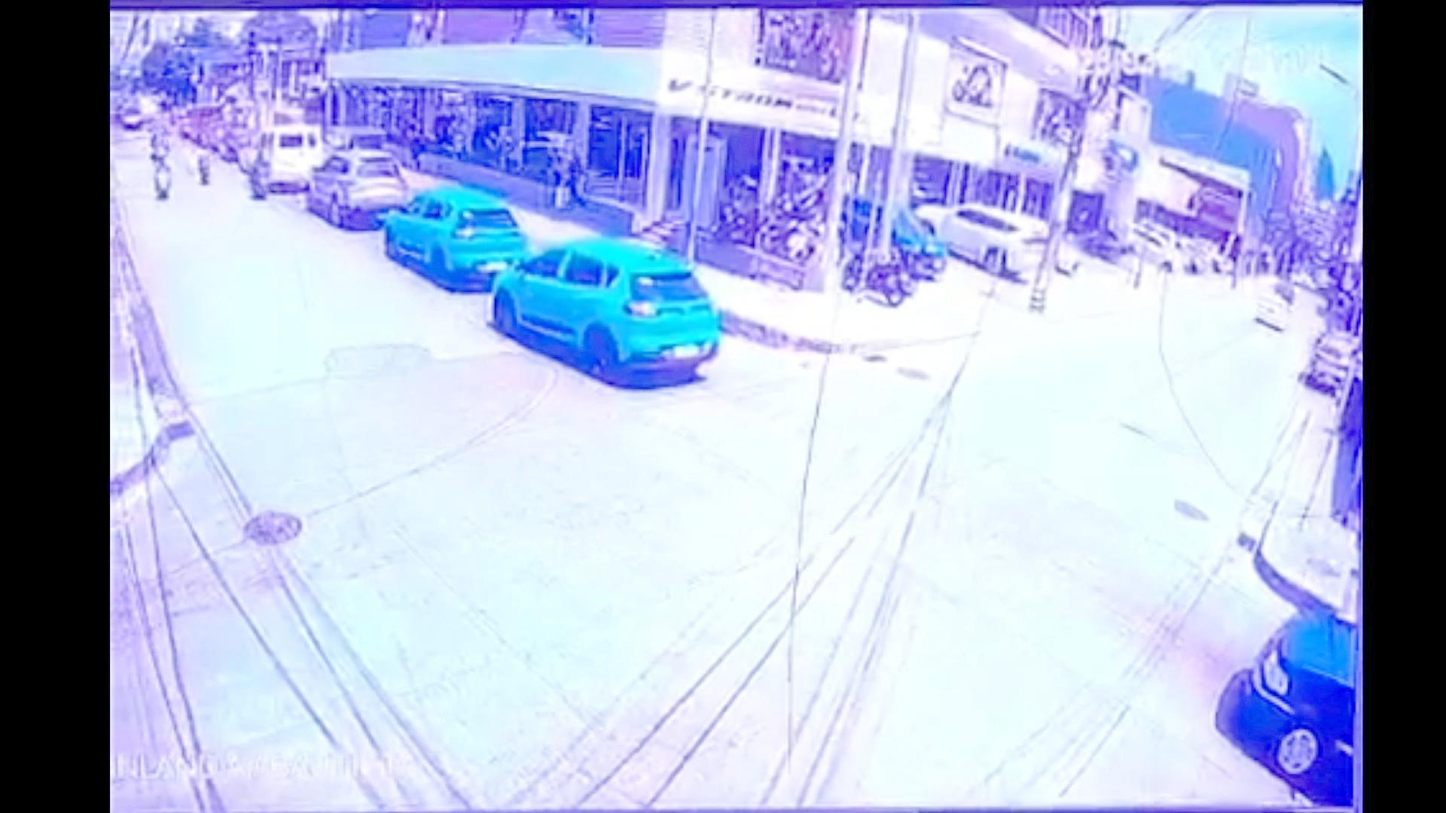Car: (491, 225, 718, 380), (1216, 604, 1359, 808), (376, 185, 527, 289), (838, 195, 950, 278), (924, 203, 1049, 276), (307, 148, 411, 227), (245, 124, 323, 191), (1131, 223, 1226, 275), (1300, 327, 1359, 394), (1253, 279, 1295, 331), (117, 96, 160, 131)
Motor: (841, 241, 914, 307), (148, 144, 179, 203), (236, 143, 268, 199), (196, 145, 212, 186)
